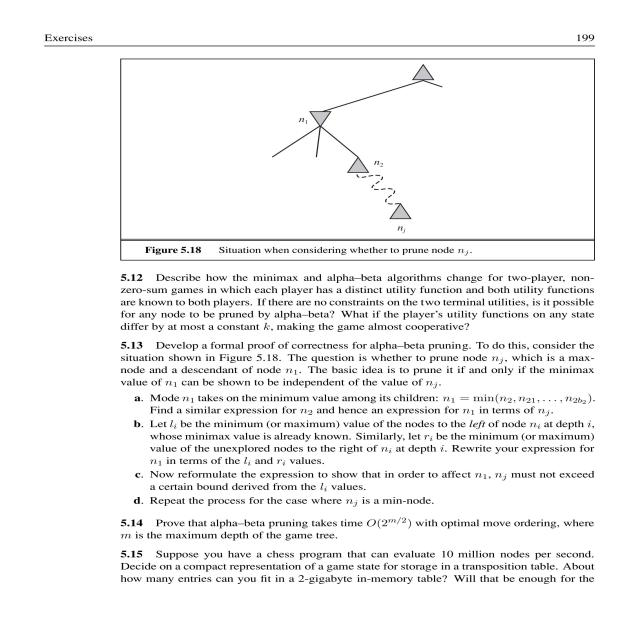diagram: (127, 60, 531, 264)
